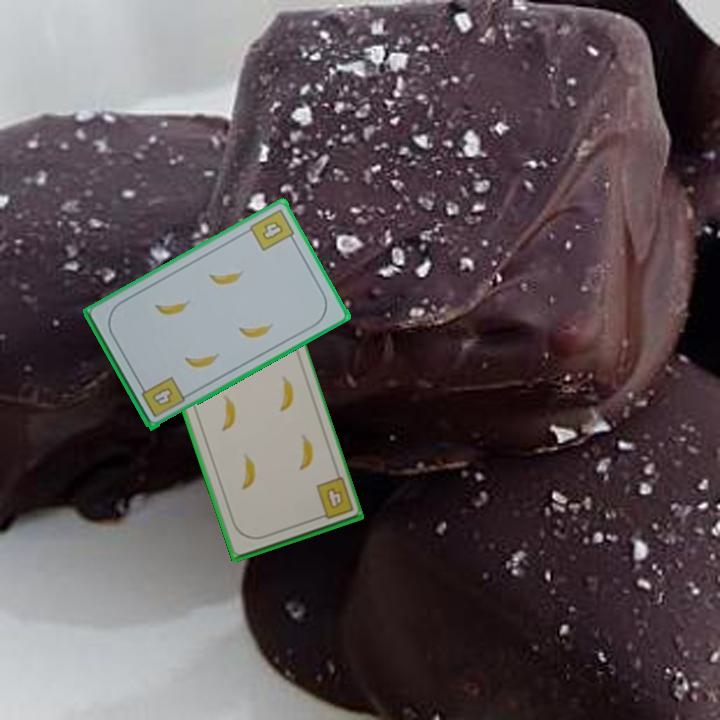4b: (246, 205, 299, 254), (136, 373, 188, 420), (312, 474, 356, 522)
